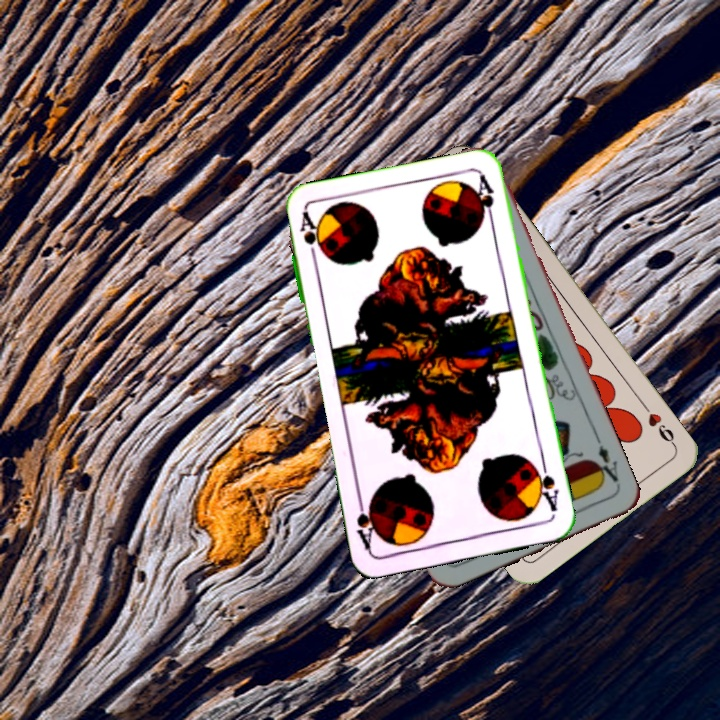EA: (589, 434, 624, 491)
H9: (637, 399, 678, 449)
SA: (529, 457, 562, 515), (296, 208, 326, 267)
